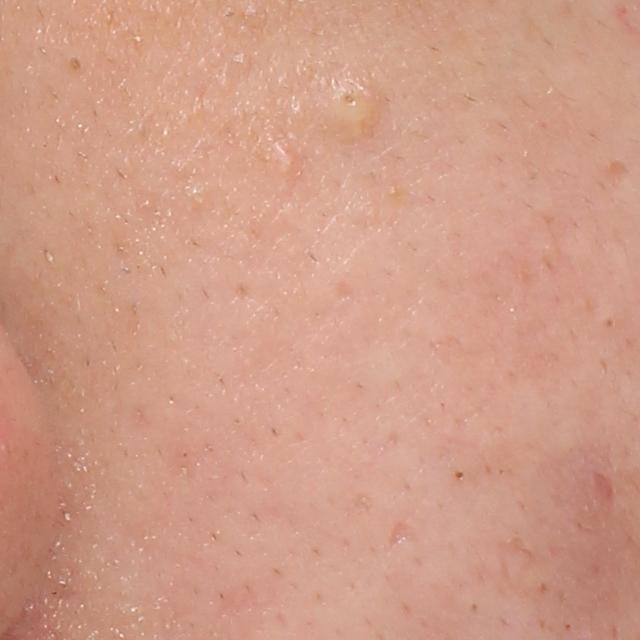atrophic_scar: (597, 151, 634, 188), (388, 520, 422, 552)
comedo: (327, 79, 373, 127), (273, 142, 300, 182), (65, 51, 86, 74)
